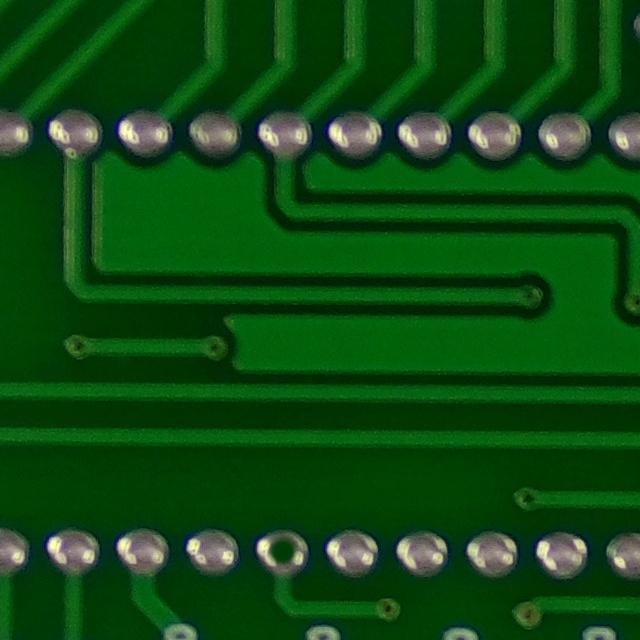missing_hole: (248, 519, 315, 585)
